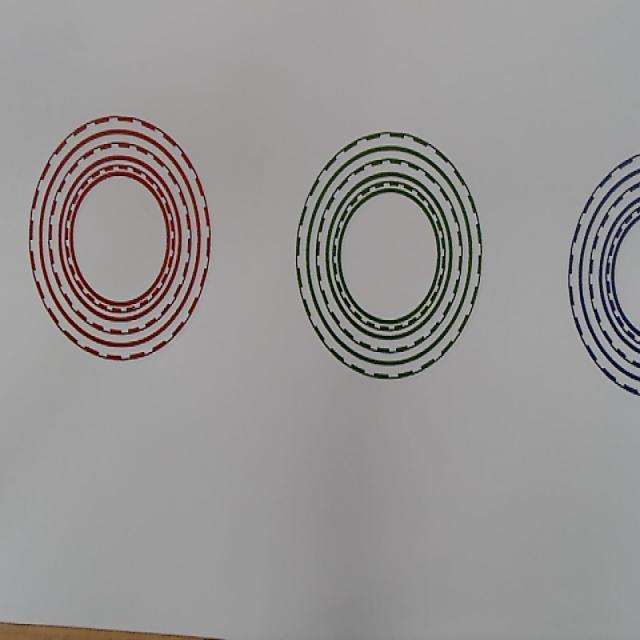g: (296, 130, 484, 380)
red-green-blue: (28, 114, 212, 363)
